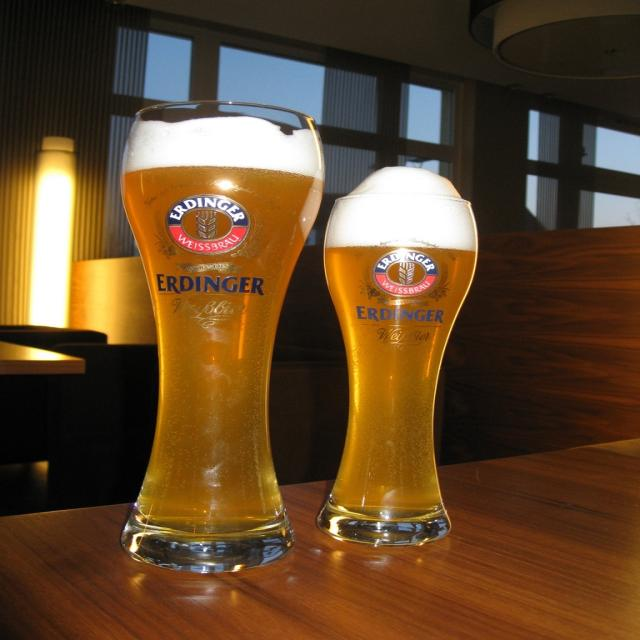erdinger: (138, 176, 290, 299), (349, 232, 466, 328)
